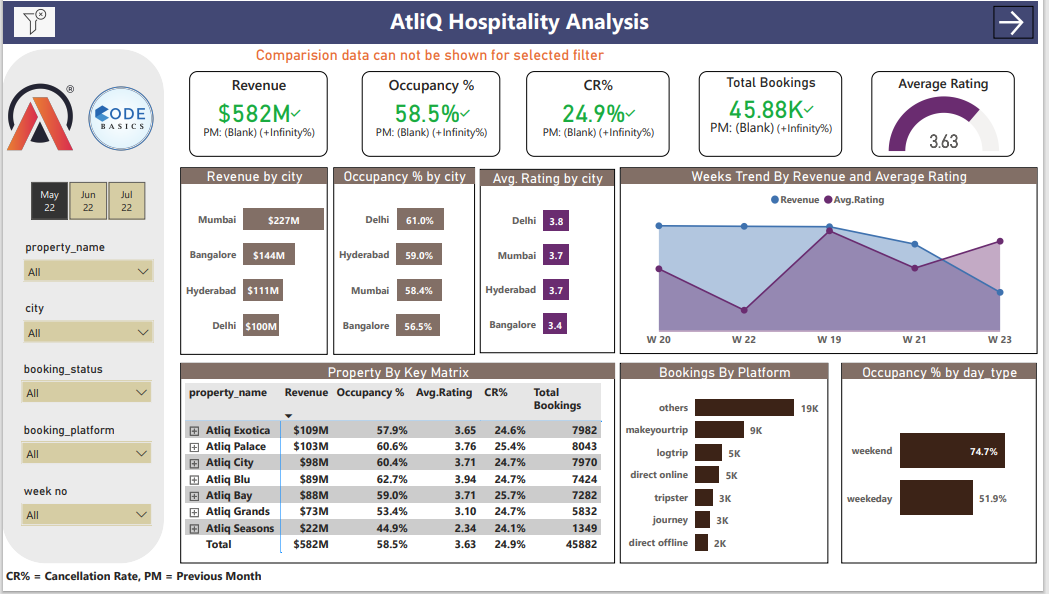

What the dashboard file says about the page in this screenshot:
{"tool":"powerbi","page":{"name":"Executive Report","canvas":[1280,720],"ordinal":0},"visuals":[{"type":"gauge","title":"Average Rating ","fields":{"Y":["Key Measures.Avg.Rating"]},"box":[1068.5,86.4,175.7,105.1],"z":0},{"type":"clusteredBarChart","fields":{"Y":["Key Measures.Revenue"],"Category":["dim_hotels.city"]},"box":[218.9,204.5,181.4,230.4],"z":1000},{"type":"shape","box":[0,59,198.7,630.7],"z":2000},{"type":"slicer","fields":{"Values":["dim_hotels.property_name"]},"box":[15.8,289.2,180,60.5],"z":3000},{"type":"clusteredBarChart","fields":{"Y":["Key Measures.Occupancy %"],"Category":["dim_hotels.city"]},"box":[406.6,204.5,174.2,230.4],"z":4000},{"type":"slicer","fields":{"Values":["dim_hotels.city"]},"box":[15.8,363.7,180,60.5],"z":5000},{"type":"clusteredBarChart","title":"Avg. Rating by city","fields":{"Y":["Key Measures.Average Rating"],"Category":["dim_hotels.city"]},"box":[587,205.9,165.6,226.1],"z":6000},{"type":"slicer","fields":{"Values":["fact_bookings.booking_status"]},"box":[14.4,438.3,180,60.5],"z":7000},{"type":"slicer","fields":{"Values":["fact_bookings.booking_platform"]},"box":[14.4,512.9,180,60.5],"z":8000},{"type":"slicer","fields":{"Values":["dim_date.week no"]},"box":[14.4,587.5,180,60.5],"z":9000},{"type":"areaChart","title":"Weeks Trend By Revenue and Average Rating ","fields":{"Y":["Key Measures.Revenue"],"Category":["dim_date.week no"],"Y2":["Key Measures.Average Rating"]},"box":[758.9,204.5,512.6,229],"z":10000},{"type":"kpi","title":"Revenue ","fields":{"Indicator":["Key Measures.Revenue"],"Goal":["Key Measures.Revenue change month"],"TrendLine":["dim_date.Month"]},"box":[230.4,86.4,169.9,105.1],"z":11000},{"type":"kpi","title":"Occupancy %","fields":{"Indicator":["Key Measures.Occupancy %"],"Goal":["Key Measures.Occupancy % change month"],"TrendLine":["dim_date.Month"]},"box":[442.1,86.4,169.9,105.1],"z":12000},{"type":"kpi","title":"CR%","fields":{"Indicator":["Key Measures.CR%"],"Goal":["Key Measures.CR % change month"],"TrendLine":["dim_date.Month"]},"box":[643.5,86.4,175.7,105.1],"z":13000},{"type":"pivotTable","title":"Property By Key Matrix","fields":{"Rows":["dim_hotels.property_name","dim_hotels.city"],"Values":["Key Measures.Revenue","Key Measures.Occupancy %","Key Measures.Average Rating","Key Measures.Cancellation Rate %","Key Measures.Total Bookings"]},"box":[218.9,443.5,534.2,246.2],"z":14000},{"type":"textbox","box":[0,689.8,367.2,30.2],"z":15000},{"type":"clusteredBarChart","title":" Bookings By Platform","fields":{"Category":["fact_bookings.booking_platform"],"Y":["CountNonNull(fact_bookings.booking_date)"]},"box":[758.9,443.5,256.3,246.2],"z":16000},{"type":"clusteredBarChart","fields":{"Category":["dim_date.day_type"],"Y":["Key Measures.Occupancy %"]},"box":[1031,443.5,240.5,246.2],"z":17000},{"type":"slicer","fields":{"Values":["dim_date.mmm yy"]},"box":[10.1,214.6,190.1,60.5],"z":18000},{"type":"card","fields":{"Values":["Key Measures.KPI Message"]},"box":[230.4,51.8,591.8,28.8],"z":19000},{"type":"kpi","title":"Total Bookings ","fields":{"Indicator":["Key Measures.Total Bookings"],"Goal":["Key Measures.Total Bookings change month"],"TrendLine":["dim_date.Month"]},"box":[855.8,86.4,176,105.1],"z":20000},{"type":"textbox","box":[0,0,1271.5,51.8],"z":21000},{"type":"image","box":[10.1,0,59,51.8],"z":22000},{"type":"actionButton","box":[1218.1,5.9,48.6,39.8],"z":23000},{"type":"image","box":[0,94.3,95,95],"z":24000},{"type":"image","box":[98.7,97.2,94.3,94.3],"z":25000}]}

Visuals, with their boxes in screenshot pixels (x1, y1, x2, y2), scaled from the page's 1280x720 canvas onto the 1049x594 screenshot:
"Average Rating " gauge: select_region(876, 71, 1020, 158)
clusteredBarChart - Key Measures.Revenue x dim_hotels.city: select_region(179, 169, 328, 359)
shape: select_region(0, 49, 163, 569)
slicer - dim_hotels.property_name: select_region(13, 239, 160, 289)
clusteredBarChart - Key Measures.Occupancy % x dim_hotels.city: select_region(333, 169, 476, 359)
slicer - dim_hotels.city: select_region(13, 300, 160, 350)
"Avg. Rating by city" clusteredBarChart: select_region(481, 170, 617, 356)
slicer - fact_bookings.booking_status: select_region(12, 362, 159, 412)
slicer - fact_bookings.booking_platform: select_region(12, 423, 159, 473)
slicer - dim_date.week no: select_region(12, 485, 159, 535)
"Weeks Trend By Revenue and Average Rating " areaChart: select_region(622, 169, 1042, 358)
"Revenue " kpi: select_region(189, 71, 328, 158)
"Occupancy %" kpi: select_region(362, 71, 502, 158)
"CR%" kpi: select_region(527, 71, 671, 158)
"Property By Key Matrix" pivotTable: select_region(179, 366, 617, 569)
textbox: select_region(0, 569, 301, 593)
" Bookings By Platform" clusteredBarChart: select_region(622, 366, 832, 569)
clusteredBarChart - dim_date.day_type x Key Measures.Occupancy %: select_region(845, 366, 1042, 569)
slicer - dim_date.mmm yy: select_region(8, 177, 164, 227)
card - Key Measures.KPI Message: select_region(189, 43, 674, 66)
"Total Bookings " kpi: select_region(701, 71, 846, 158)
textbox: select_region(0, 0, 1042, 43)
image: select_region(8, 0, 57, 43)
actionButton: select_region(998, 5, 1038, 38)
image: select_region(0, 78, 78, 156)
image: select_region(81, 80, 158, 158)
